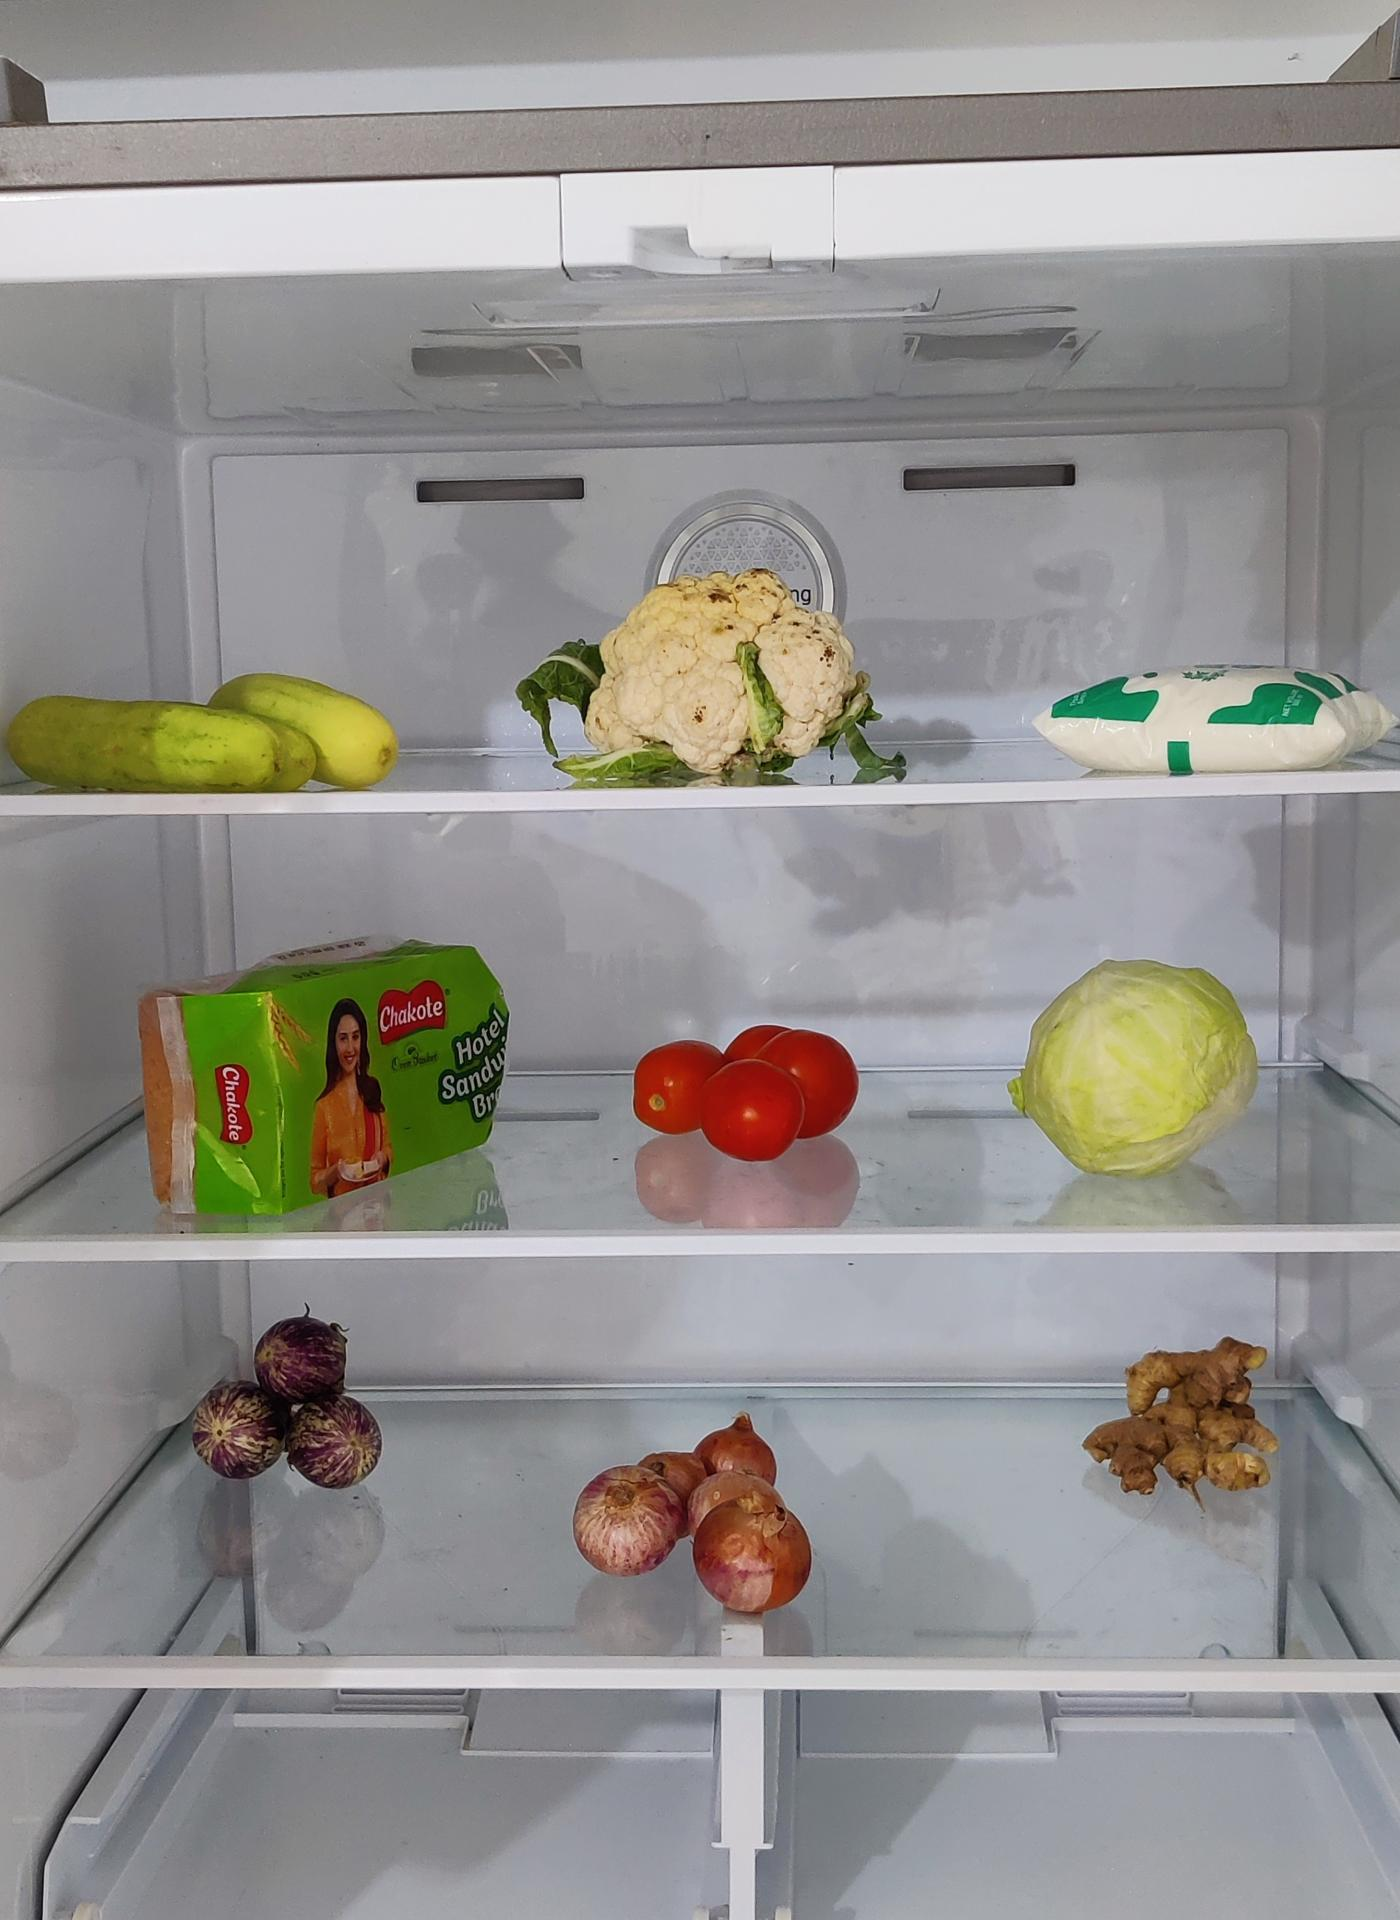bread: (130, 935, 516, 1212)
brinjal: (192, 1313, 382, 1500)
cabbage: (1008, 954, 1258, 1175)
cauliflower: (574, 568, 872, 775)
cucumber: (92, 677, 409, 793)
ginger: (1085, 1328, 1284, 1494)
milk: (1039, 656, 1400, 774)
onion: (576, 1407, 819, 1613)
tomato: (635, 1017, 868, 1155)
